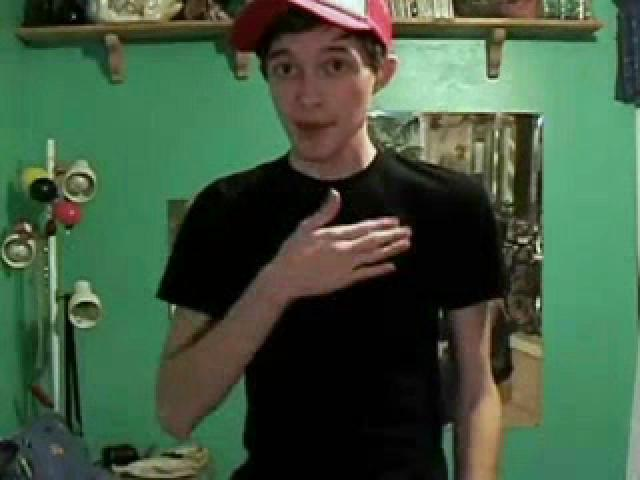F: (156, 4, 504, 476)
